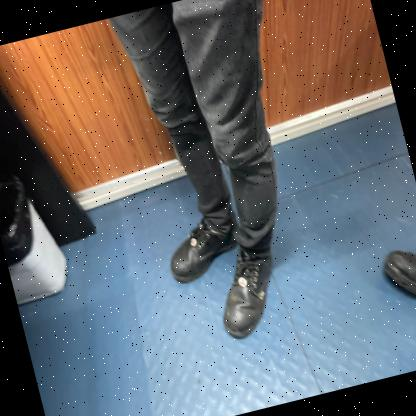bota: (160, 207, 250, 288), (373, 237, 416, 319)
